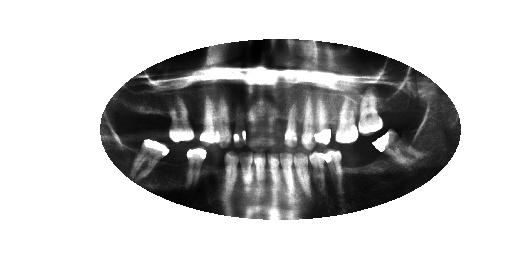i10decay: (235, 150, 254, 201)
i11decay: (221, 150, 239, 201)
i12loss: (204, 148, 224, 199)
i13healthy: (184, 144, 207, 197)
i14loss: (166, 146, 185, 195)
i15healthy: (131, 130, 171, 184)
i16loss: (115, 127, 139, 169)
i1healthy: (366, 126, 427, 170)
i2loss: (357, 144, 398, 180)
i3loss: (340, 147, 373, 187)
i4healthy: (323, 147, 347, 197)
i5healthy: (306, 149, 329, 198)
i6healthy: (290, 152, 315, 201)
i7healthy: (280, 149, 299, 198)
i8decay: (265, 149, 284, 202)
i9decay: (253, 150, 266, 198)
u10decay: (231, 97, 249, 150)
u11healthy: (212, 96, 234, 146)
u12healthy: (196, 91, 221, 149)
u13loss: (184, 92, 206, 141)
u14healthy: (164, 94, 197, 145)
u15loss: (143, 90, 175, 137)
u16loss: (119, 87, 141, 132)
u1loss: (381, 88, 412, 124)
u2healthy: (356, 87, 388, 136)
u3healthy: (328, 93, 363, 146)
u4healthy: (313, 94, 334, 146)
u5healthy: (298, 91, 317, 151)
u6healthy: (281, 95, 301, 152)
u7loss: (273, 104, 288, 150)
u8decay: (259, 103, 277, 151)
u9decay: (244, 103, 264, 151)
